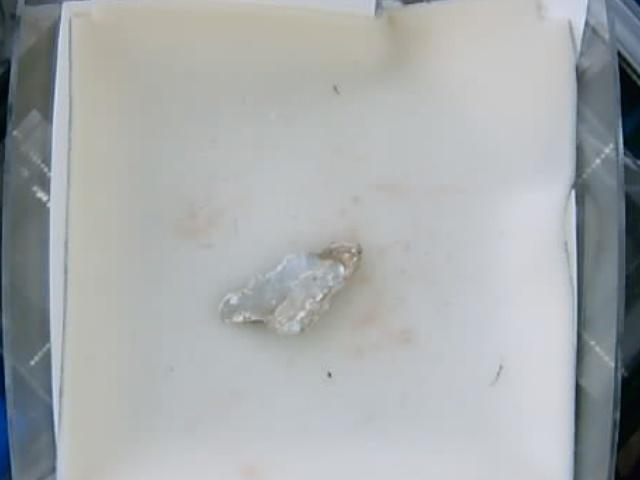Brisk: (217, 239, 360, 336)
